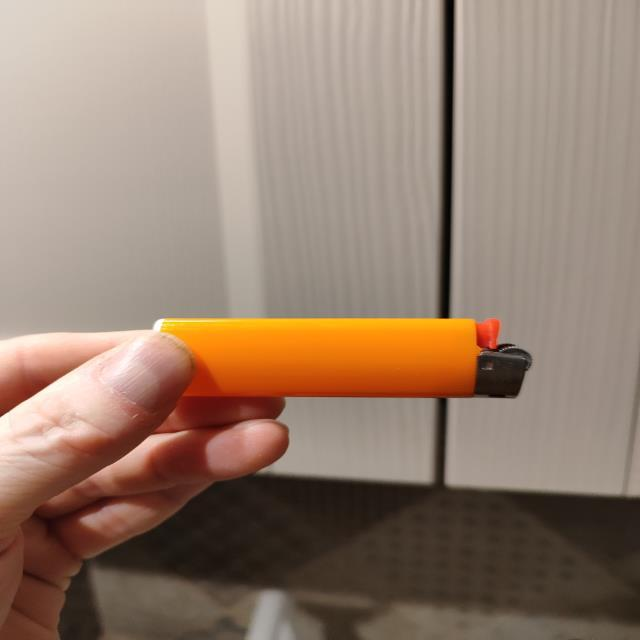lighter: (156, 318, 531, 398)
